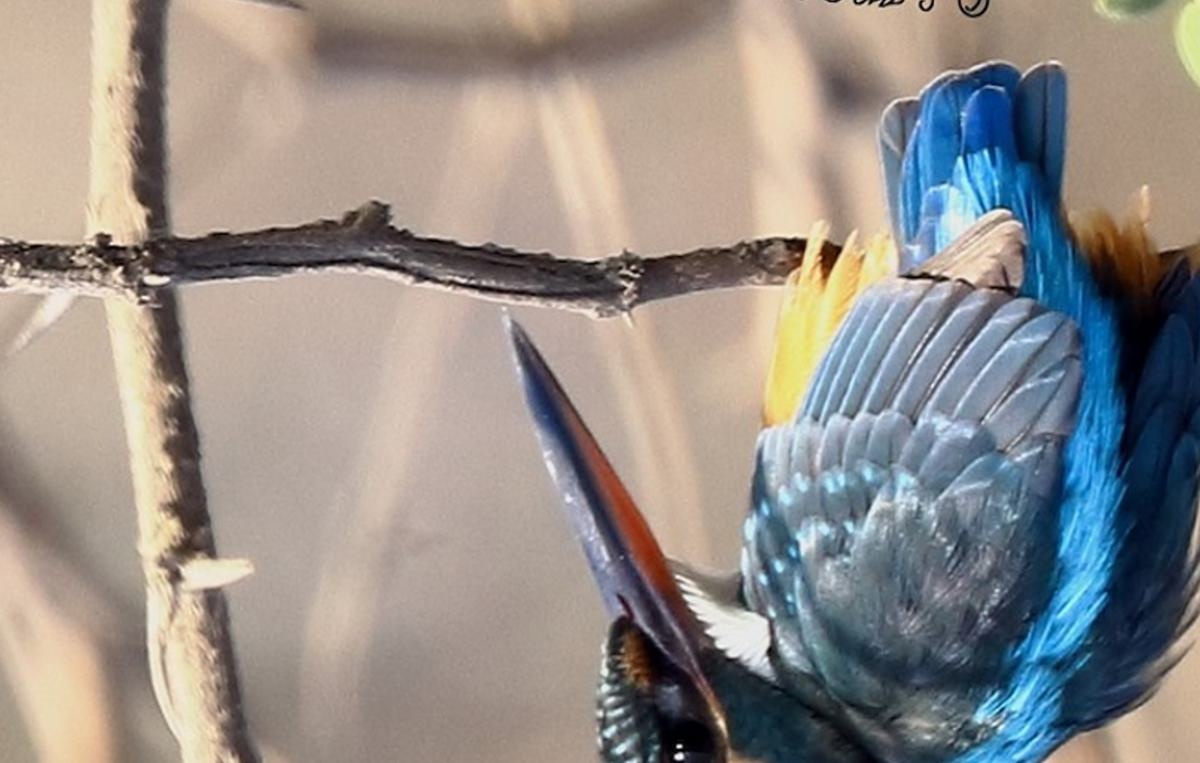kingfisher: (514, 76, 1192, 762)
